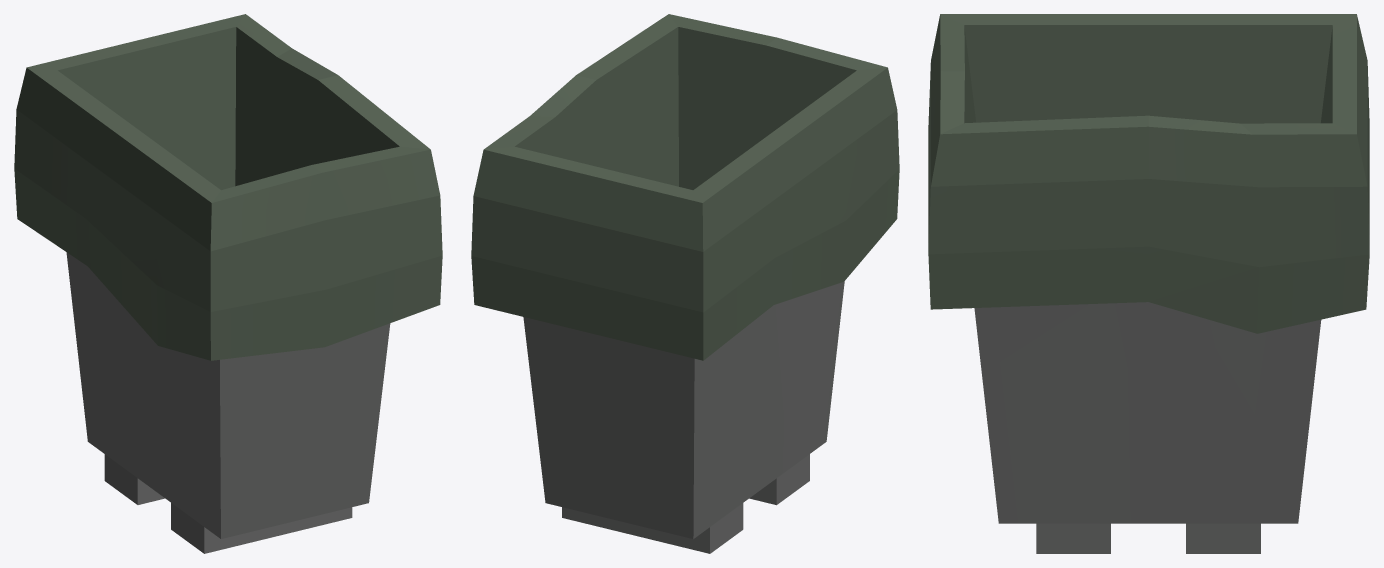
Rendered from SM_Bin_02.glb.
3 renders of one model, left to right at view 1: azimuth 30°, elevation 25°; view 2: azimuth 150°, elevation 25°; view 3: azimuth 270°, elevation 25°, orthographic. The views are drawn at different scales.
Parts seen in each view (by area): view 1: SM_Bin_02; view 2: SM_Bin_02; view 3: SM_Bin_02.
Boxes of the visible parts, box(x1,y1,x2,y2) form: SM_Bin_02: box(14, 14, 442, 553); SM_Bin_02: box(471, 14, 899, 553); SM_Bin_02: box(928, 14, 1369, 553).
Size of the model in its own units: 0.3525 by 0.5767 by 0.5164.
1 material, 1 textured.
